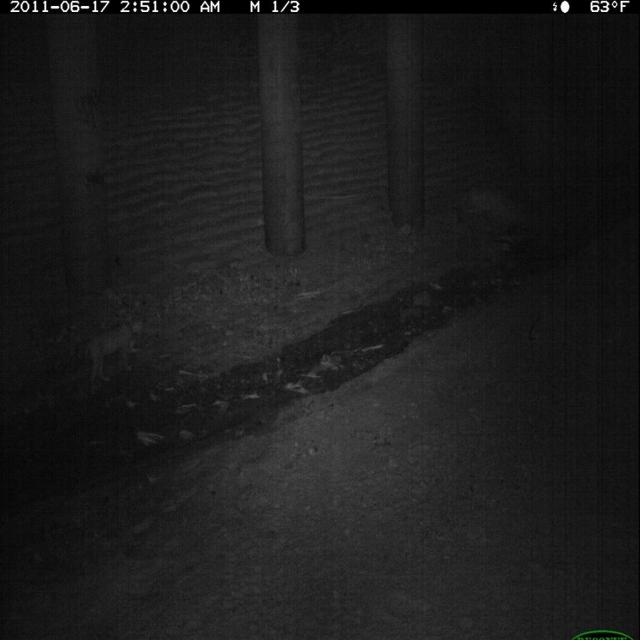bobcat: (79, 308, 155, 396)
